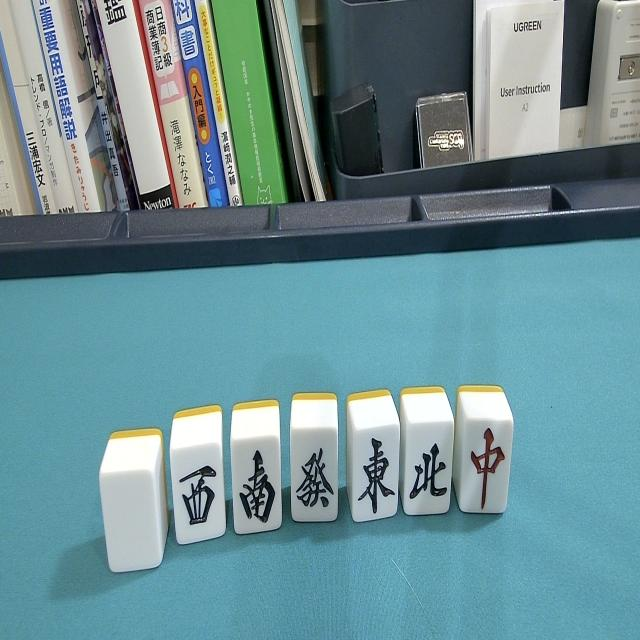chun: (454, 381, 515, 528)
haku: (98, 424, 168, 586)
hatsu: (288, 388, 342, 532)
nan: (229, 396, 284, 552)
pe-: (398, 379, 456, 527)
sya-: (168, 402, 229, 556)
ton: (345, 387, 400, 532)
